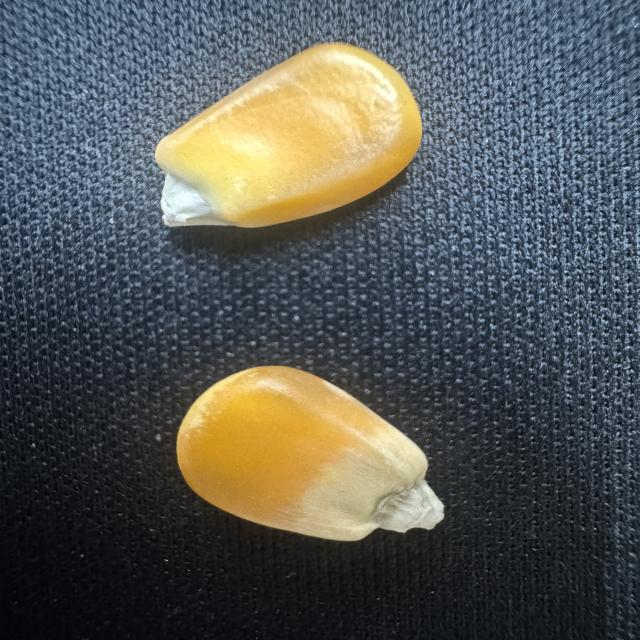Good-Seed: (161, 360, 458, 553), (150, 37, 434, 236)
